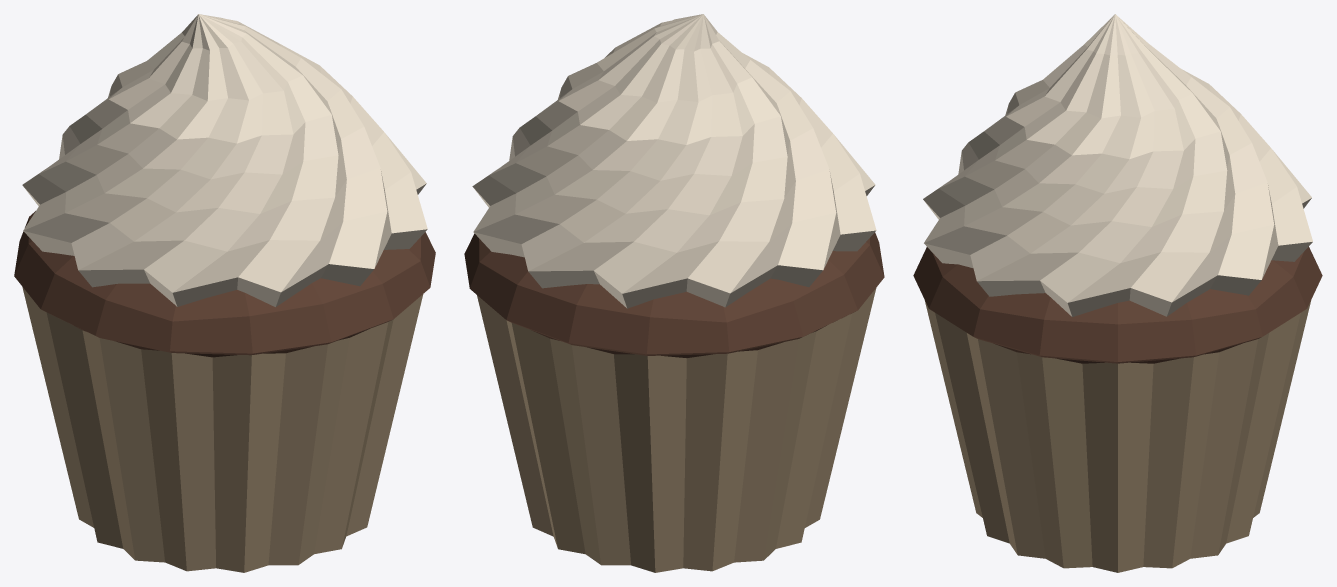
File: Cupcake.fbx
3 views of the same model, side by side, from view 1: azimuth 30°, elevation 25°; view 2: azimuth 150°, elevation 25°; view 3: azimuth 270°, elevation 25° (orthographic). The views are drawn at different scales.
Visible parts, largest first — view 1: Cupcake; view 2: Cupcake; view 3: Cupcake.
Part boxes in pixels (bbox=[...]): Cupcake: bbox=[14, 14, 435, 572]; Cupcake: bbox=[464, 14, 884, 572]; Cupcake: bbox=[913, 14, 1322, 572].
Size of the model in its own units: 7.9 by 10.35 by 7.9.
